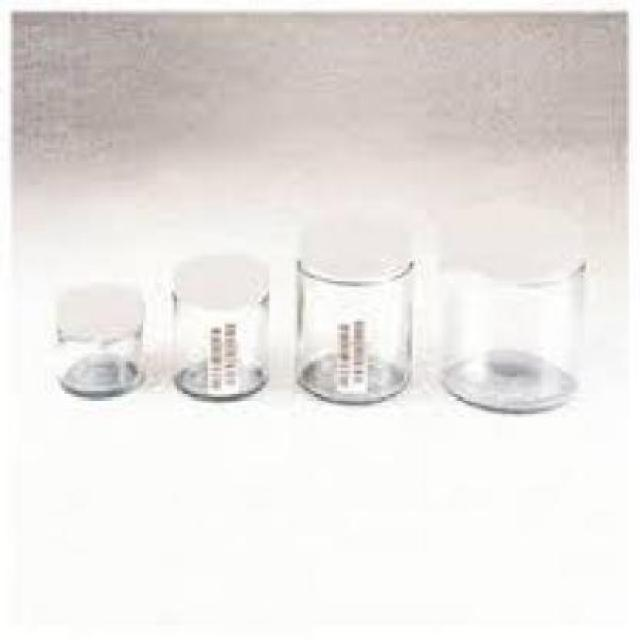kaca: (438, 262, 582, 412), (292, 260, 412, 397), (172, 289, 268, 397), (54, 324, 140, 394)
